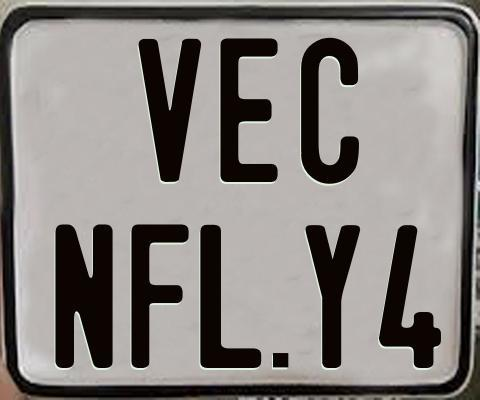4: (379, 224, 446, 371)
C: (300, 38, 358, 186)
E: (218, 37, 277, 184)
F: (131, 224, 191, 373)
L: (197, 222, 259, 366)
N: (55, 223, 115, 370)
V: (135, 38, 198, 185)
Y: (305, 224, 361, 368)
